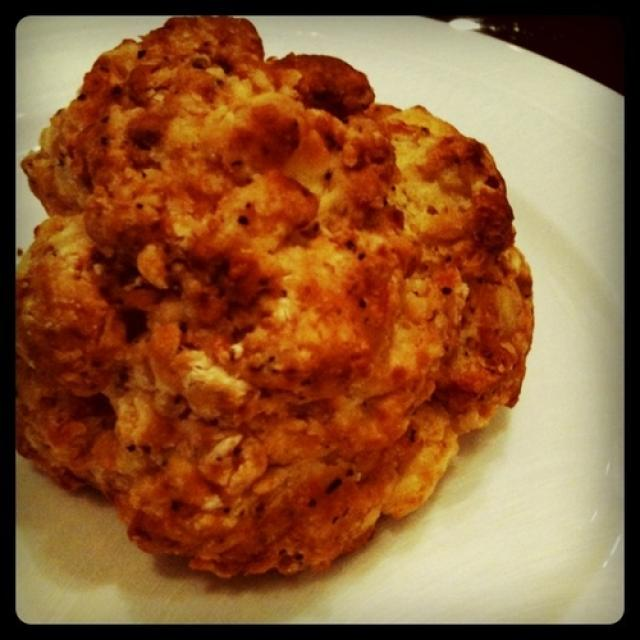面包点心: (22, 20, 599, 608)
